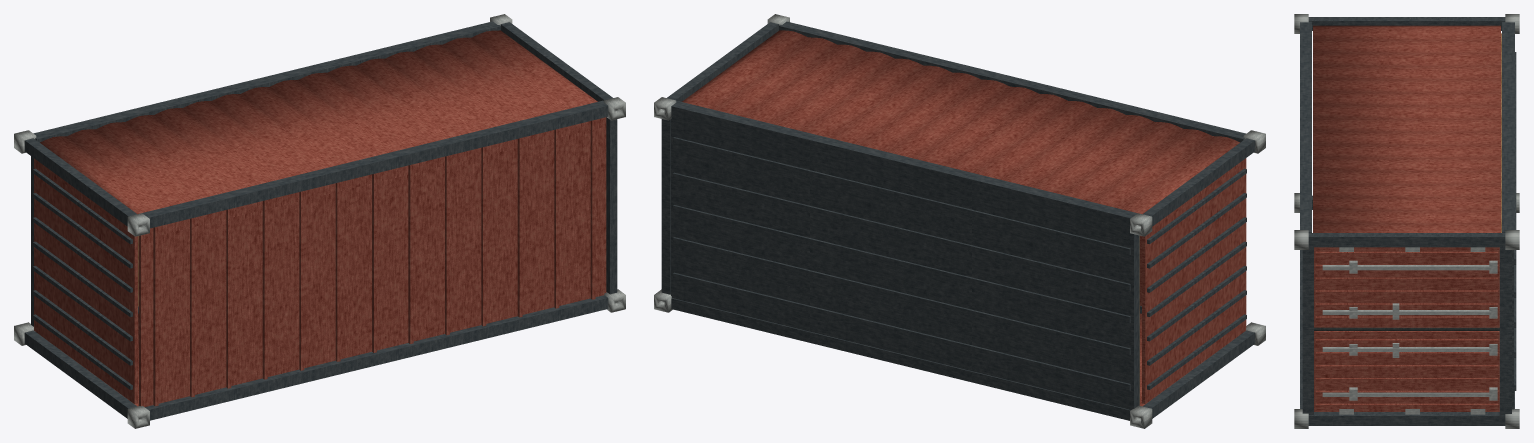
Rendered from PROJECT_Z_ISO_20ft_Container_Prefab.glb.
3 views of the same model, side by side, from view 1: azimuth 30°, elevation 25°; view 2: azimuth 150°, elevation 25°; view 3: azimuth 270°, elevation 25° (orthographic). The views are drawn at different scales.
Visible parts, largest first — view 1: ISO20GP_RoofPanel, ISO20GP_CorrugatedSide_R_ClosedSteelSheet, ISO20GP_FrontBulkheadSteel, ISO20GP_TopRail_R, ISO20GP_TopRail_L, ISO20GP_BottomRail_R, ISO20GP_CornerPost_R_Front, ISO20GP_CornerPost_L_Front, ISO20GP_RearDoor_Header, ISO20GP_CornerPost_R_Rear, ISO20GP_RoofCrossRib_05, ISO20GP_RoofCrossRib_06 (+18 smaller); view 2: ISO20GP_BottomFrame_Chassis, ISO20GP_CorrugatedSide_R_ClosedSteelSheet, ISO20GP_FrontBulkheadSteel, ISO20GP_BottomRail_R, ISO20GP_BottomRail_L, ISO20GP_TopRail_R, ISO20GP_Underframe_LongitudinalChannel_2, ISO20GP_Underframe_LongitudinalChannel_4, ISO20GP_Underframe_LongitudinalChannel_5, ISO20GP_Underframe_LongitudinalChannel_1, ISO20GP_Underframe_LongitudinalChannel_3, ISO20GP_CornerPost_R_Front (+10 smaller); view 3: ISO20GP_CorrugatedSide_R_ClosedSteelSheet, ISO20GP_RearDoor_Right_Leaf, ISO20GP_RearDoor_Left_Leaf, ISO20GP_CornerPost_R_Rear, ISO20GP_BottomRail_R, ISO20GP_CornerPost_L_Rear, ISO20GP_TopRail_R, ISO20GP_RearDoor_Threshold, ISO20GP_RearDoor_Header, ISO20GP_CornerPost_R_Front, ISO20GP_RearDoor_Right_VerticalCorrugation_4, ISO20GP_RearDoor_Left_VerticalCorrugation_1 (+22 smaller).
Boxes of the visible parts, <box> form: ISO20GP_RoofPanel: <box>138,117,606,406</box>; ISO20GP_CorrugatedSide_R_ClosedSteelSheet: <box>40,30,597,214</box>; ISO20GP_FrontBulkheadSteel: <box>34,158,137,403</box>; ISO20GP_TopRail_R: <box>142,100,608,228</box>; ISO20GP_TopRail_L: <box>145,295,608,420</box>; ISO20GP_BottomRail_R: <box>33,21,500,142</box>; ISO20GP_CornerPost_R_Front: <box>24,138,136,226</box>; ISO20GP_CornerPost_L_Front: <box>24,330,136,418</box>; ISO20GP_RearDoor_Header: <box>606,117,617,294</box>; ISO20GP_CornerPost_R_Rear: <box>500,22,612,101</box>; ISO20GP_RoofCrossRib_05: <box>299,191,304,370</box>; ISO20GP_RoofCrossRib_06: <box>335,182,340,361</box>; ISO20GP_BottomFrame_Chassis: <box>671,117,1139,409</box>; ISO20GP_CorrugatedSide_R_ClosedSteelSheet: <box>682,30,1239,214</box>; ISO20GP_FrontBulkheadSteel: <box>1142,158,1245,403</box>; ISO20GP_BottomRail_R: <box>671,101,1137,228</box>; ISO20GP_BottomRail_L: <box>671,298,1130,420</box>; ISO20GP_TopRail_R: <box>779,21,1245,142</box>; ISO20GP_Underframe_LongitudinalChannel_2: <box>673,237,1130,355</box>; ISO20GP_Underframe_LongitudinalChannel_4: <box>673,172,1130,290</box>; ISO20GP_Underframe_LongitudinalChannel_5: <box>673,137,1130,255</box>; ISO20GP_Underframe_LongitudinalChannel_1: <box>673,272,1130,390</box>; ISO20GP_Underframe_LongitudinalChannel_3: <box>673,205,1130,322</box>; ISO20GP_CornerPost_R_Front: <box>1143,138,1255,226</box>; ISO20GP_CorrugatedSide_R_ClosedSteelSheet: <box>1313,25,1500,232</box>; ISO20GP_RearDoor_Right_Leaf: <box>1314,247,1499,327</box>; ISO20GP_RearDoor_Left_Leaf: <box>1314,331,1499,411</box>; ISO20GP_CornerPost_R_Rear: <box>1308,233,1505,247</box>; ISO20GP_BottomRail_R: <box>1502,22,1514,232</box>; ISO20GP_CornerPost_L_Rear: <box>1308,412,1505,425</box>; ISO20GP_TopRail_R: <box>1300,21,1311,232</box>; ISO20GP_RearDoor_Threshold: <box>1499,247,1511,415</box>; ISO20GP_RearDoor_Header: <box>1302,247,1313,415</box>; ISO20GP_CornerPost_R_Front: <box>1308,17,1505,30</box>; ISO20GP_RearDoor_Right_VerticalCorrugation_4: <box>1315,290,1498,295</box>; ISO20GP_RearDoor_Left_VerticalCorrugation_1: <box>1315,403,1498,408</box>.
Bounding box in the file's own units: 6.06 × 2.44 × 2.59.
6 materials, 6 textured.
